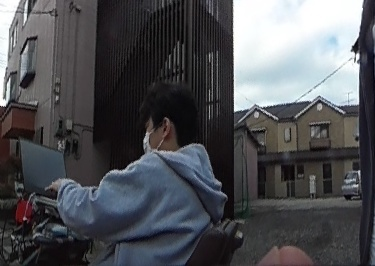person: (51, 82, 222, 266)
